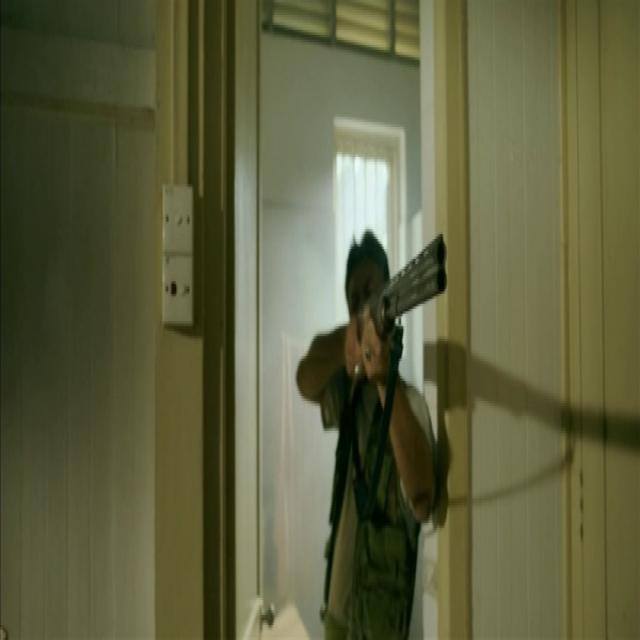rifle: (358, 234, 451, 336)
